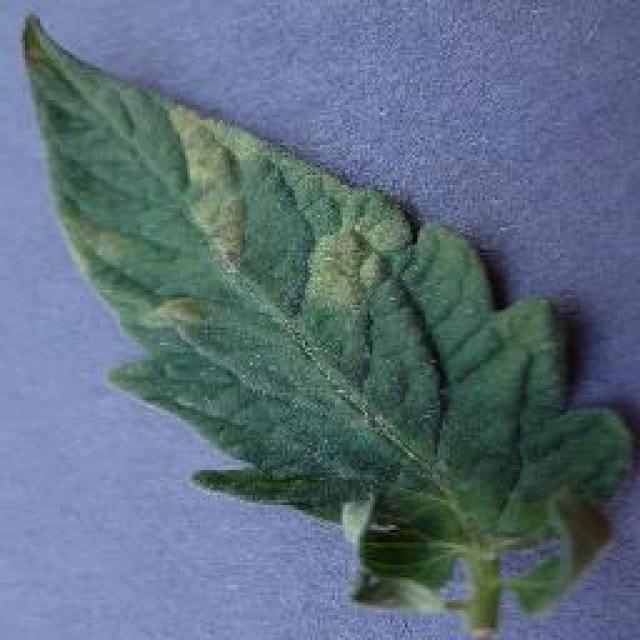leaf mold: (23, 16, 640, 639)
